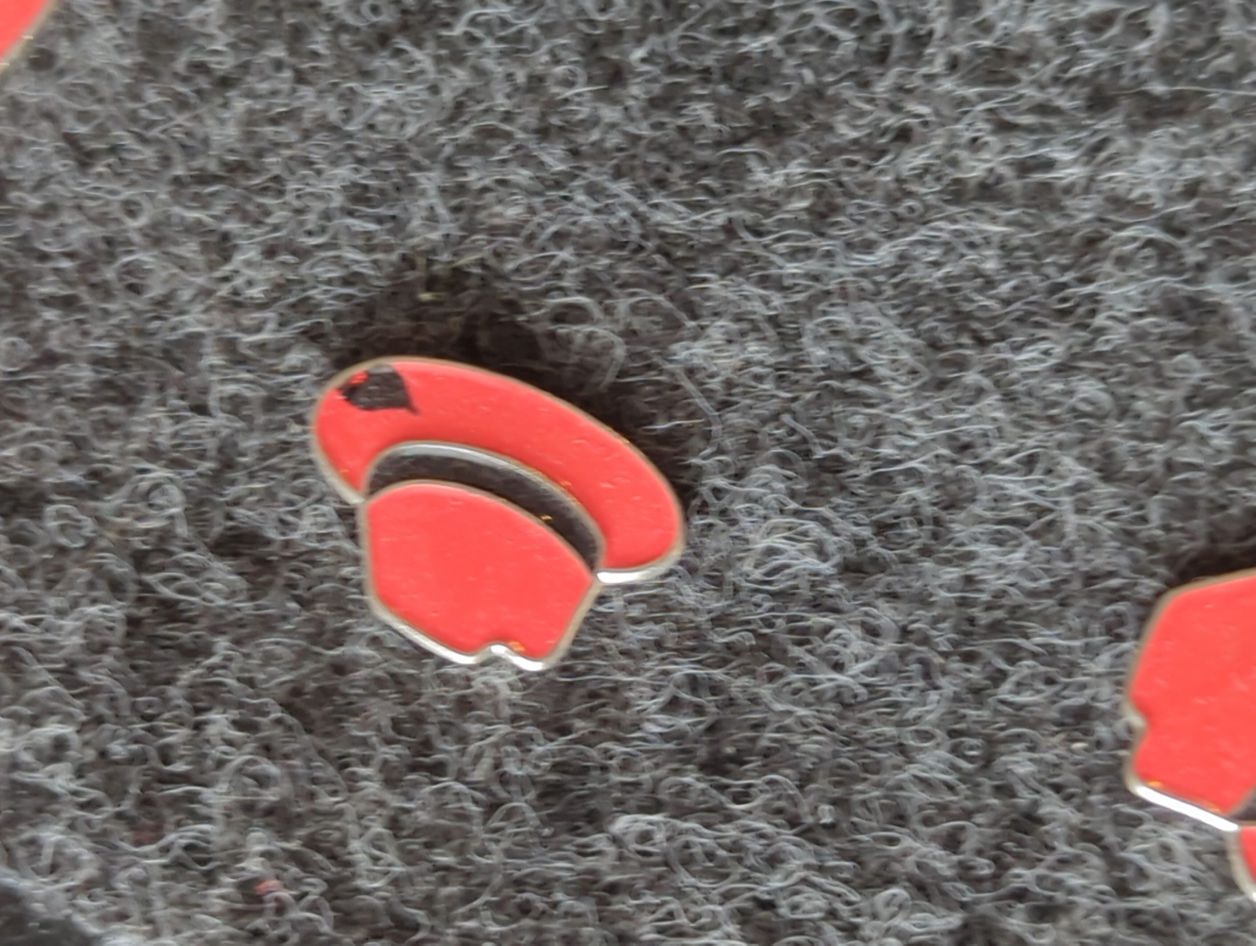Red-Hat: (166, 254, 796, 727)
Scratch: (317, 347, 445, 433)
